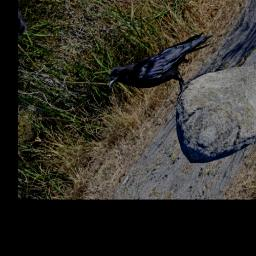Crow: (100, 5, 224, 118)
